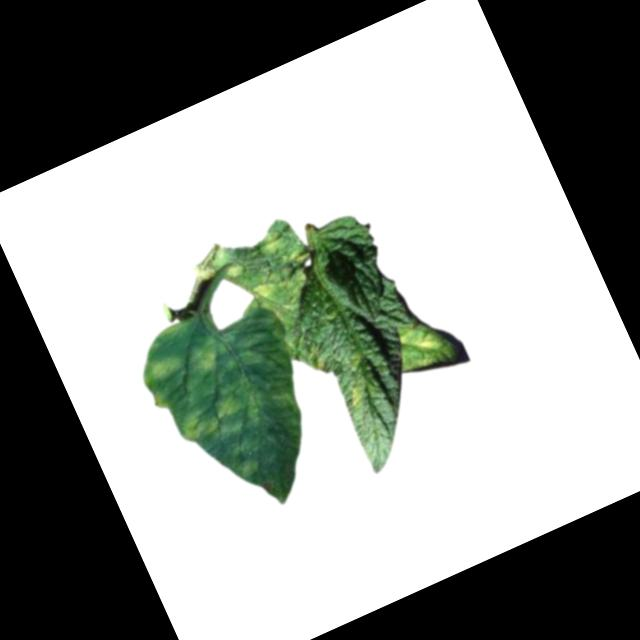Leaf_Mold: (168, 354, 307, 457), (219, 220, 324, 327), (182, 332, 231, 380), (138, 344, 189, 388), (340, 378, 371, 409)
